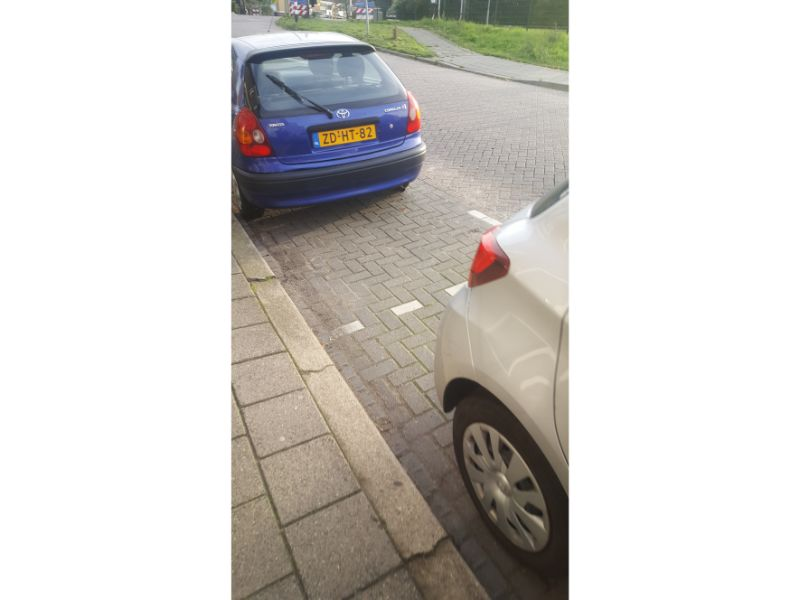kenteken: (311, 122, 378, 151)
